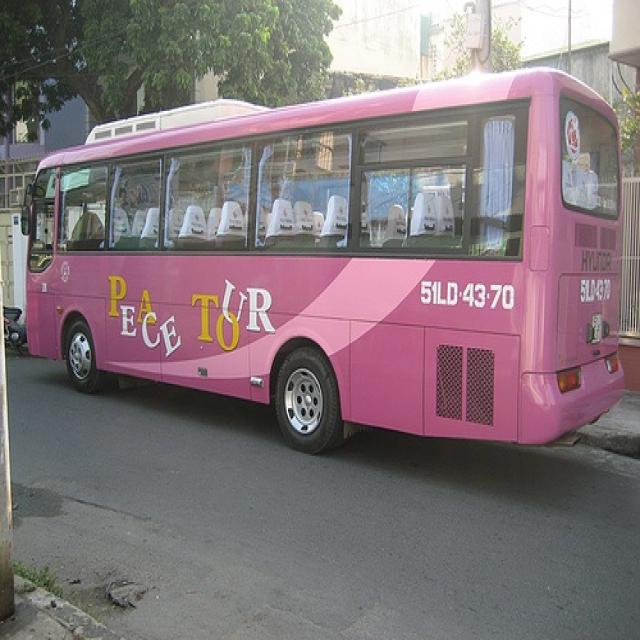bus: (23, 67, 626, 456)
